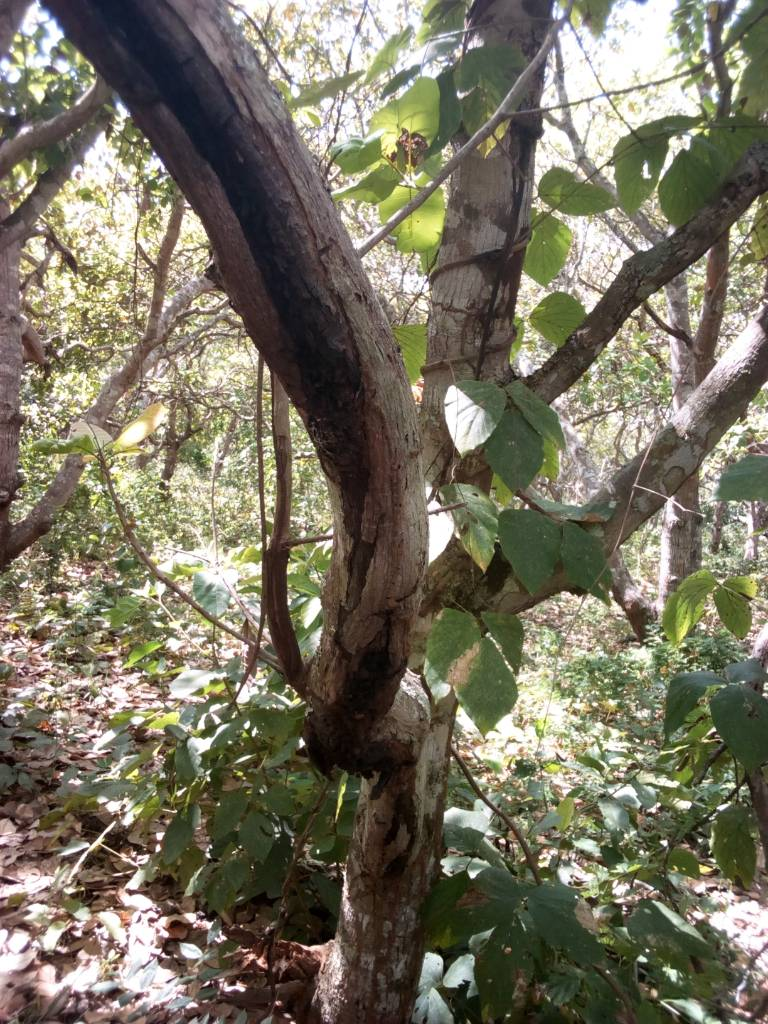Termites: (247, 102, 394, 471), (319, 530, 418, 755), (343, 788, 436, 932)
